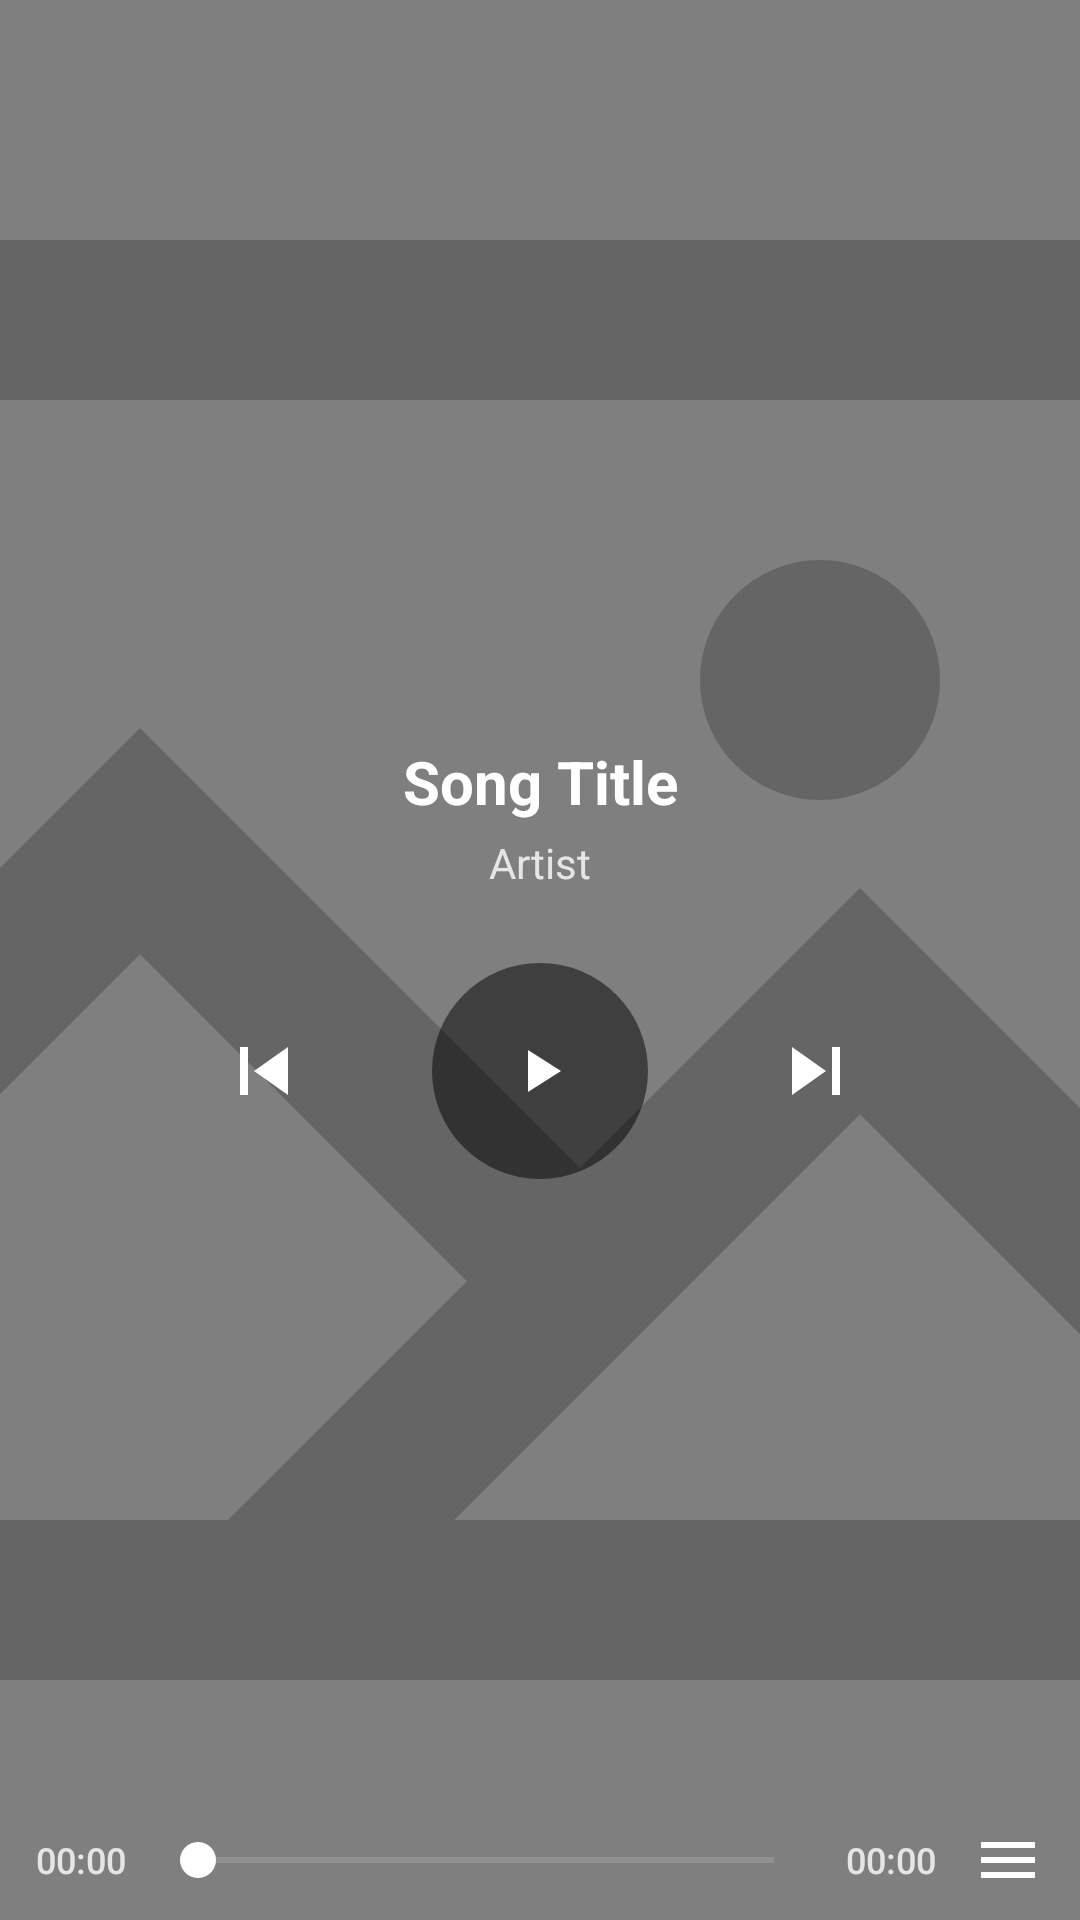

Icon click points for this 1080 x 1920 phone screenshot, format (x,y):
play arrow: (540,1071)
skip next: (816,1071)
播放列表: (1008,1860)
